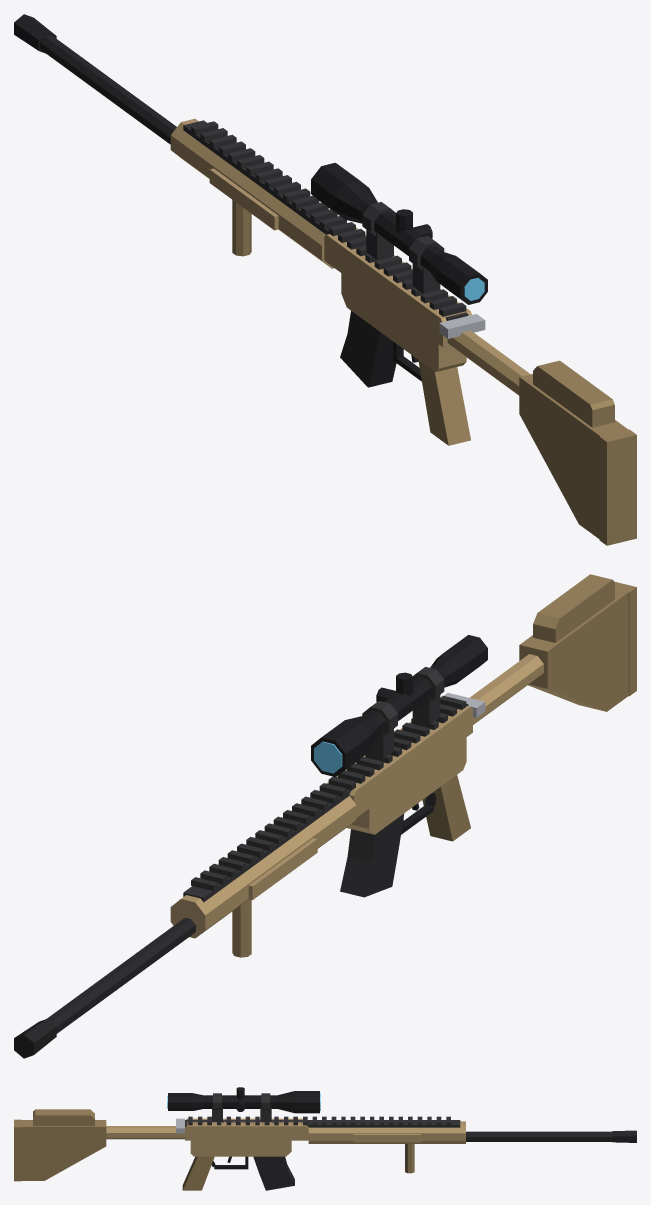
Rendered from Marksman.glb.
3 views of the same model, one above another, from view 1: azimuth 30°, elevation 25°; view 2: azimuth 150°, elevation 25°; view 3: azimuth 270°, elevation 25° (orthographic). The views are drawn at different scales.
Visible parts, largest first — view 1: Body, Mount, Pad, Stock, Scope, Handguard, Grip, Barrel, Magazine, Muzzle, Bolt; view 2: Body, Mount, Stock, Handguard, Scope, Pad, Magazine, Barrel, Grip, Muzzle, Lens; view 3: Body, Stock, Mount, Handguard, Scope, Barrel, Pad, Magazine, Grip, Muzzle, Trigger.
Boxes of the visible parts, bbox=[...] form: Body: bbox=[324, 227, 530, 395]; Mount: bbox=[183, 120, 468, 320]; Pad: bbox=[533, 360, 636, 545]; Stock: bbox=[519, 374, 627, 539]; Scope: bbox=[311, 162, 487, 304]; Handguard: bbox=[170, 118, 334, 268]; Grip: bbox=[232, 200, 470, 445]; Barrel: bbox=[40, 34, 176, 144]; Magazine: bbox=[340, 311, 396, 387]; Muzzle: bbox=[14, 14, 56, 53]; Bolt: bbox=[439, 314, 485, 338]; Body: bbox=[326, 654, 543, 834]; Mount: bbox=[183, 667, 468, 902]; Stock: bbox=[519, 589, 628, 711]; Handguard: bbox=[170, 796, 356, 938]; Scope: bbox=[311, 635, 487, 776]; Pad: bbox=[533, 574, 636, 696]; Magazine: bbox=[340, 813, 404, 897]; Barrel: bbox=[47, 917, 195, 1033]; Grip: bbox=[232, 775, 470, 957]; Muzzle: bbox=[14, 1018, 56, 1058]; Lens: bbox=[314, 741, 342, 773]; Body: bbox=[106, 1118, 308, 1156]; Stock: bbox=[22, 1120, 106, 1180]; Mount: bbox=[185, 1093, 460, 1127]; Handguard: bbox=[308, 1121, 465, 1143]; Scope: bbox=[168, 1087, 319, 1113]; Barrel: bbox=[466, 1131, 612, 1141]; Pad: bbox=[14, 1109, 94, 1181]; Magazine: bbox=[253, 1156, 294, 1190]; Grip: bbox=[182, 1143, 414, 1190]; Muzzle: bbox=[612, 1130, 636, 1142]; Trigger: bbox=[212, 1156, 248, 1169].
Bounding box in the file's own units: 0.245 × 0.97 × 5.54.
